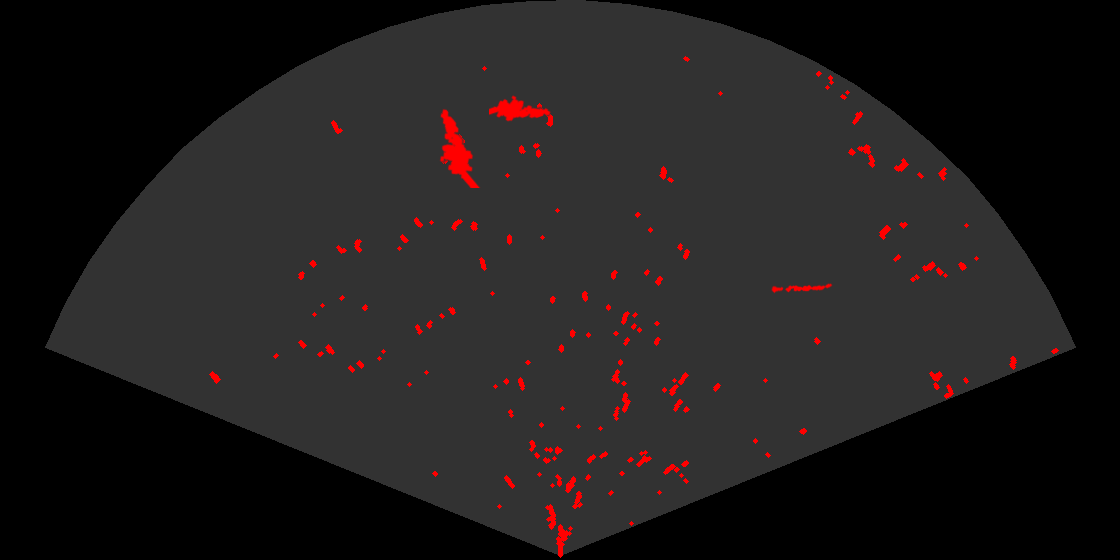chain: (771, 282, 833, 295)
frogman: (438, 107, 482, 188), (489, 94, 553, 123)
